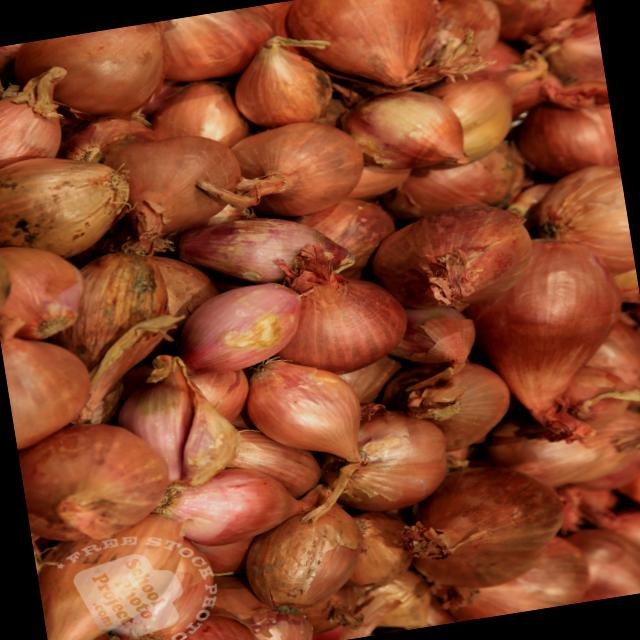onion: (473, 236, 628, 436), (15, 417, 174, 542), (0, 138, 136, 276), (276, 247, 414, 381), (248, 342, 364, 478), (238, 500, 369, 620), (338, 76, 477, 188), (346, 78, 479, 184), (118, 123, 246, 232), (386, 138, 536, 228), (228, 32, 348, 136), (334, 408, 449, 509), (224, 416, 334, 505), (224, 417, 328, 509), (418, 0, 513, 84)
